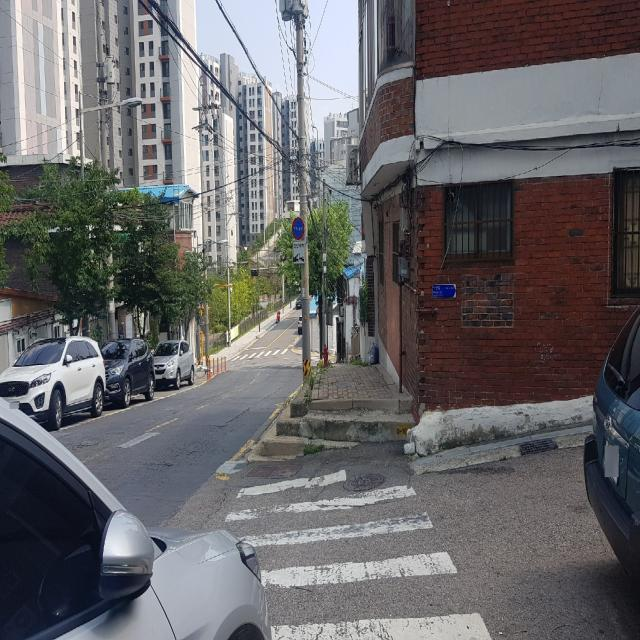횡단보도: (220, 463, 495, 640)
